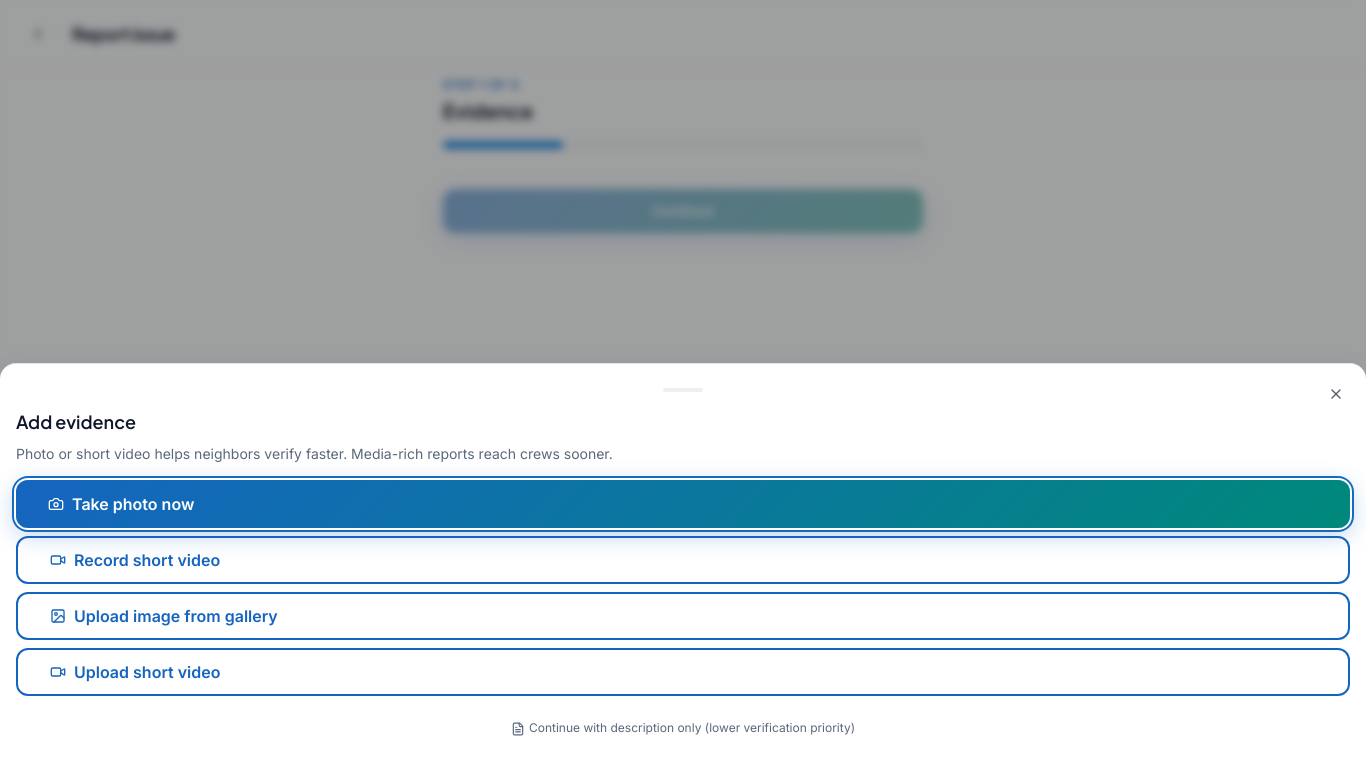
Scenario: Integration: report media and fallbacks › I05: camera-permission-denied fallback flow
Check: the element with test id "report-evidence-step" is shown, box [443, 173, 923, 233]
Click the button with test id "report-camera-capture": (133, 504) [16, 480, 1350, 528]
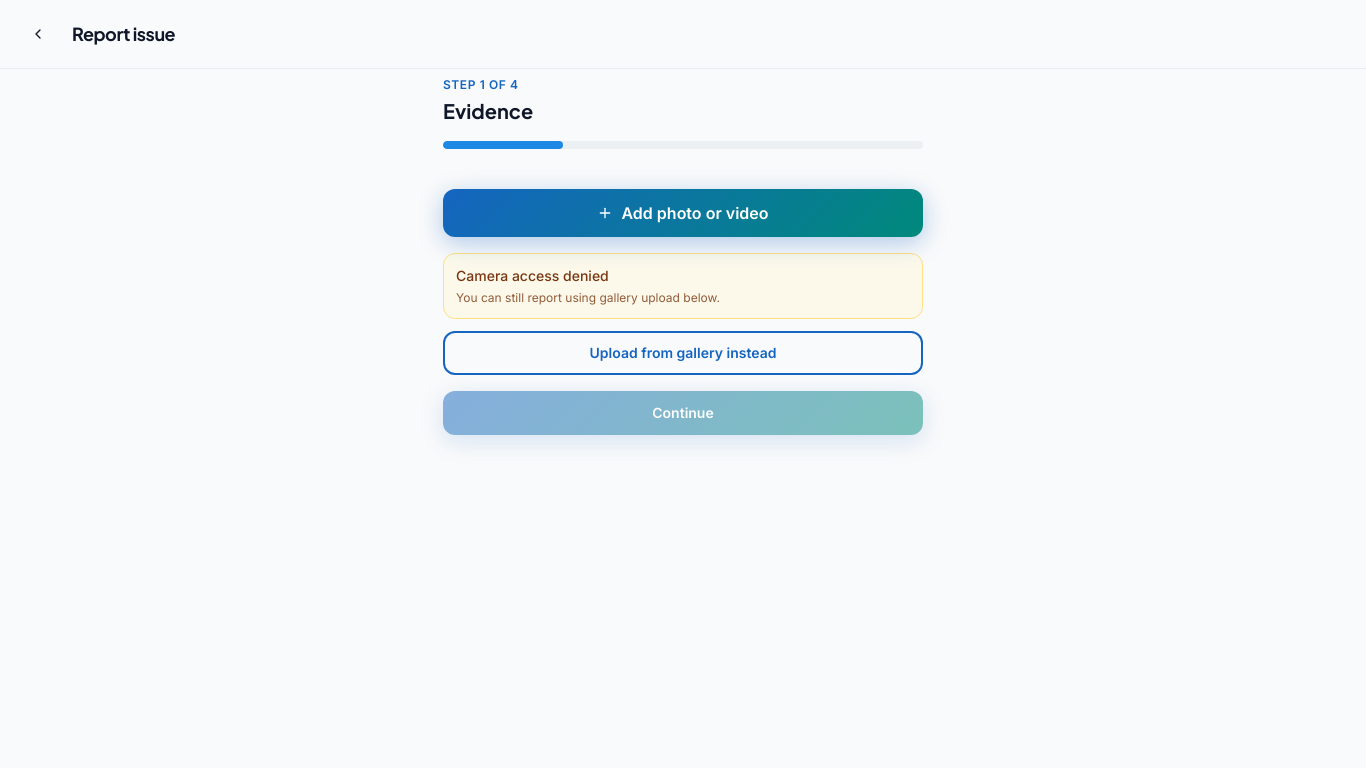
Check: the message "Camera access denied You can still report using gallery upload below." is shown, box [443, 253, 923, 319]
Check: the button with test id "capture-fallback-gallery" is shown, box [443, 331, 923, 375]
